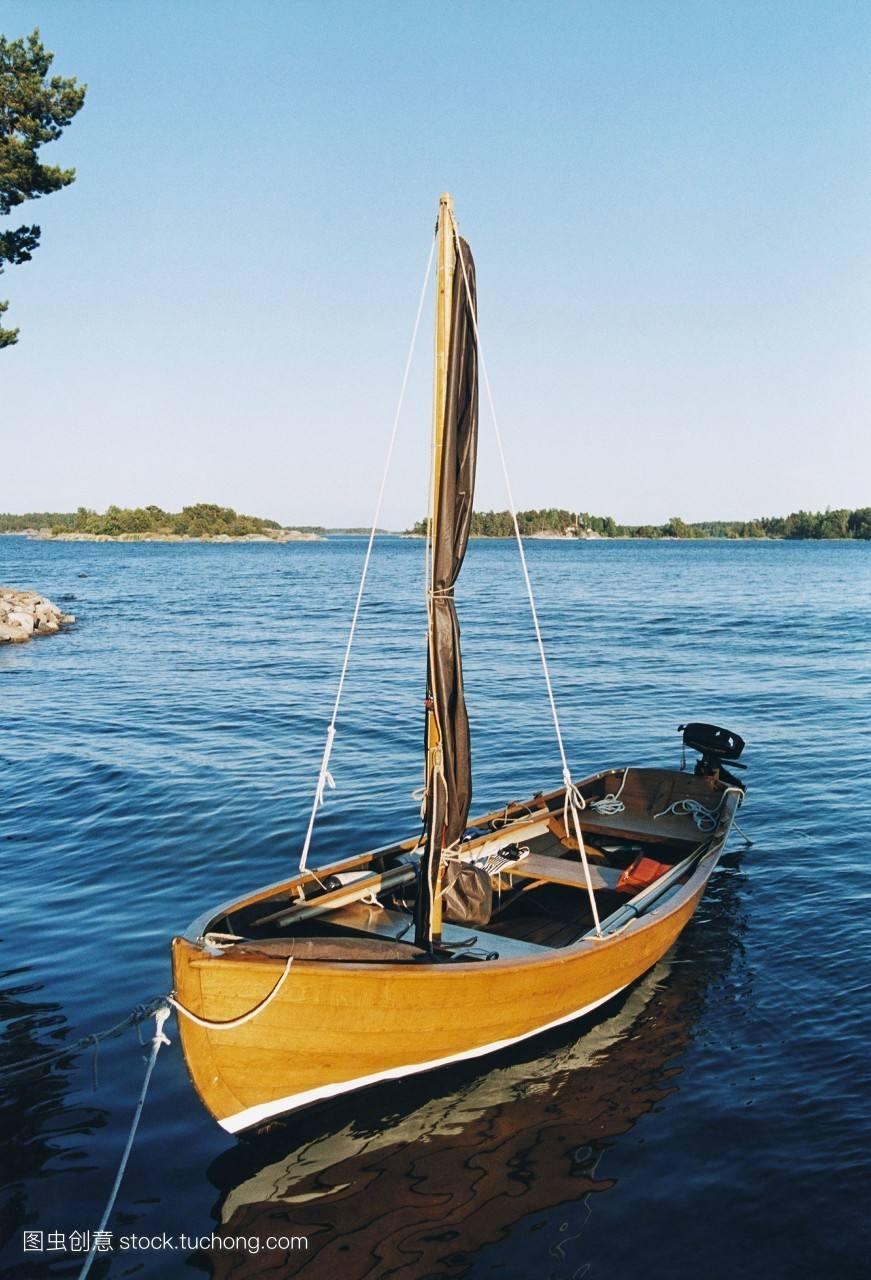otherboat: (142, 721, 761, 1150)
